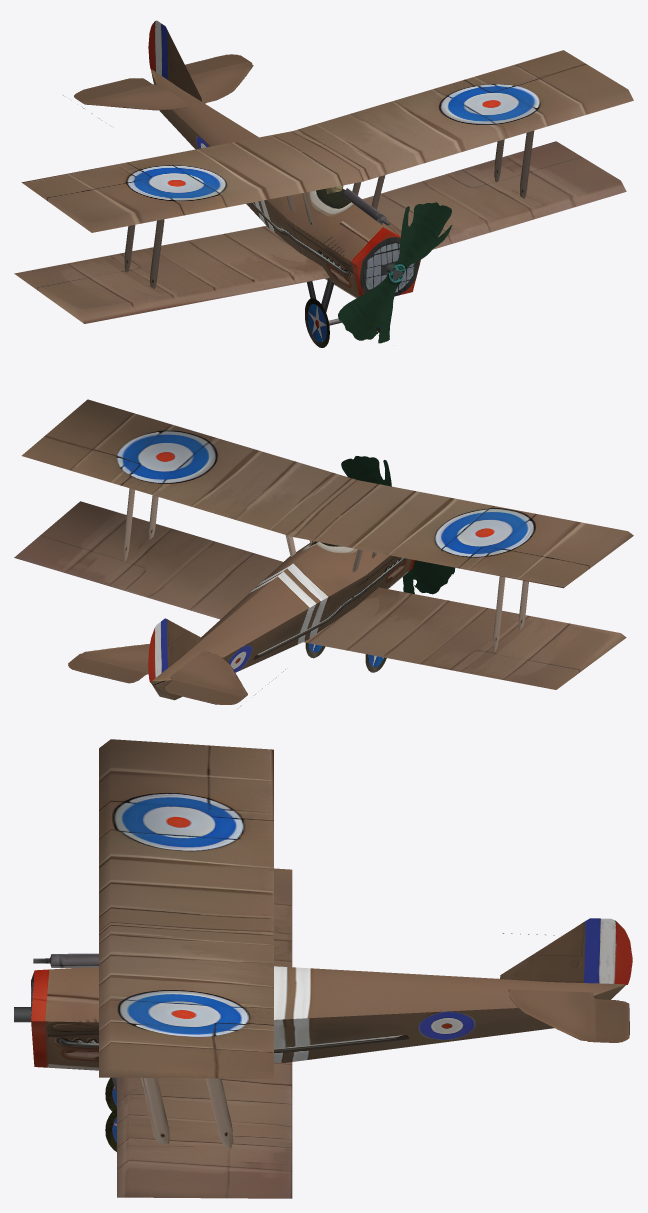
File: spadx111.gltf
The picture shows the model from 3 angles, top to bottom: view 1: azimuth 30°, elevation 25°; view 2: azimuth 150°, elevation 25°; view 3: azimuth 270°, elevation 25°; orthographic projection. The views are drawn at different scales.
Visible parts, largest first — view 1: spadx111_atomic1, spadx111_atomic0; view 2: spadx111_atomic1, spadx111_atomic0; view 3: spadx111_atomic1.
Boxes of the visible parts, bbox=[...] form: spadx111_atomic1: bbox=[14, 20, 633, 347]; spadx111_atomic0: bbox=[338, 202, 452, 343]; spadx111_atomic1: bbox=[14, 399, 633, 706]; spadx111_atomic0: bbox=[341, 456, 455, 594]; spadx111_atomic1: bbox=[14, 739, 632, 1198].
Size of the model in its own units: 22.48 by 7.58 by 17.89.
5 materials, 5 textured.
